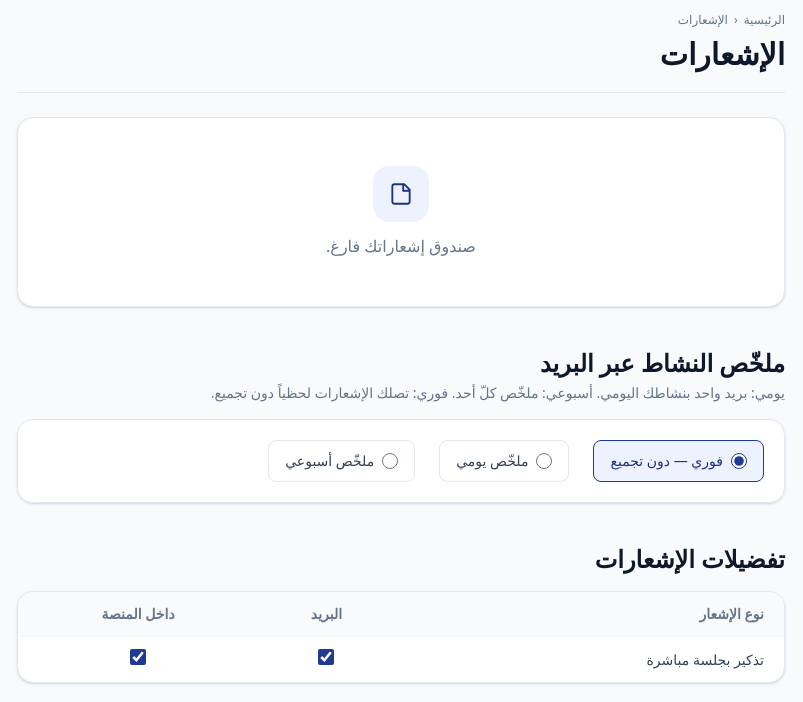
Test: NotificationsPage — a11y قسم الملخّص › fieldset معطَّل أثناء الحفظ الجاري (منع التكرار)
Expected: the text "جارٍ التحميل…" is not shown
What coordinates should you click on to do the following:
click the radio button labelled "ملخّص يومي"
I would click on:
 (544, 461)
Its box is [536,453,552,469].
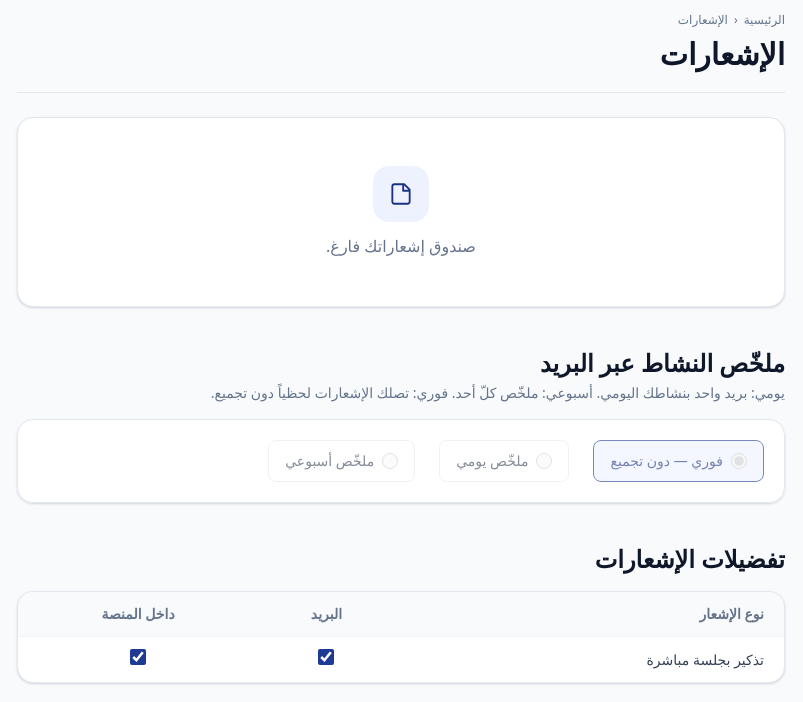
Result: the element "فوري — دون تجميع ملخّص يومي ملخّص أسبوعي" is disabled at [17,419,785,503]
